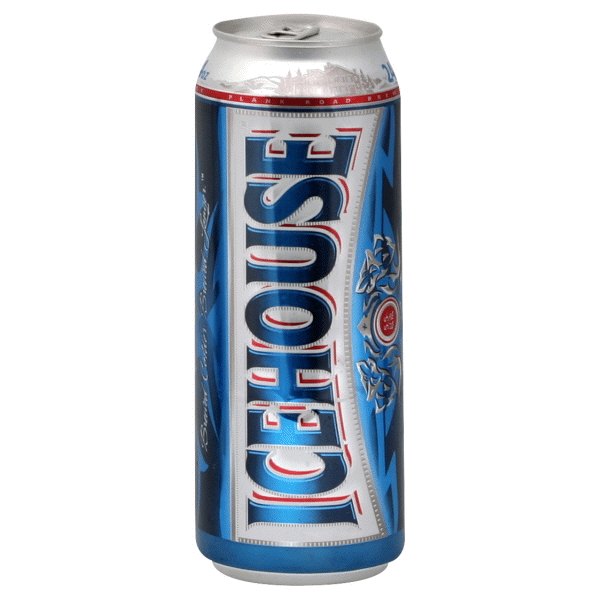beer can: (199, 13, 407, 587)
